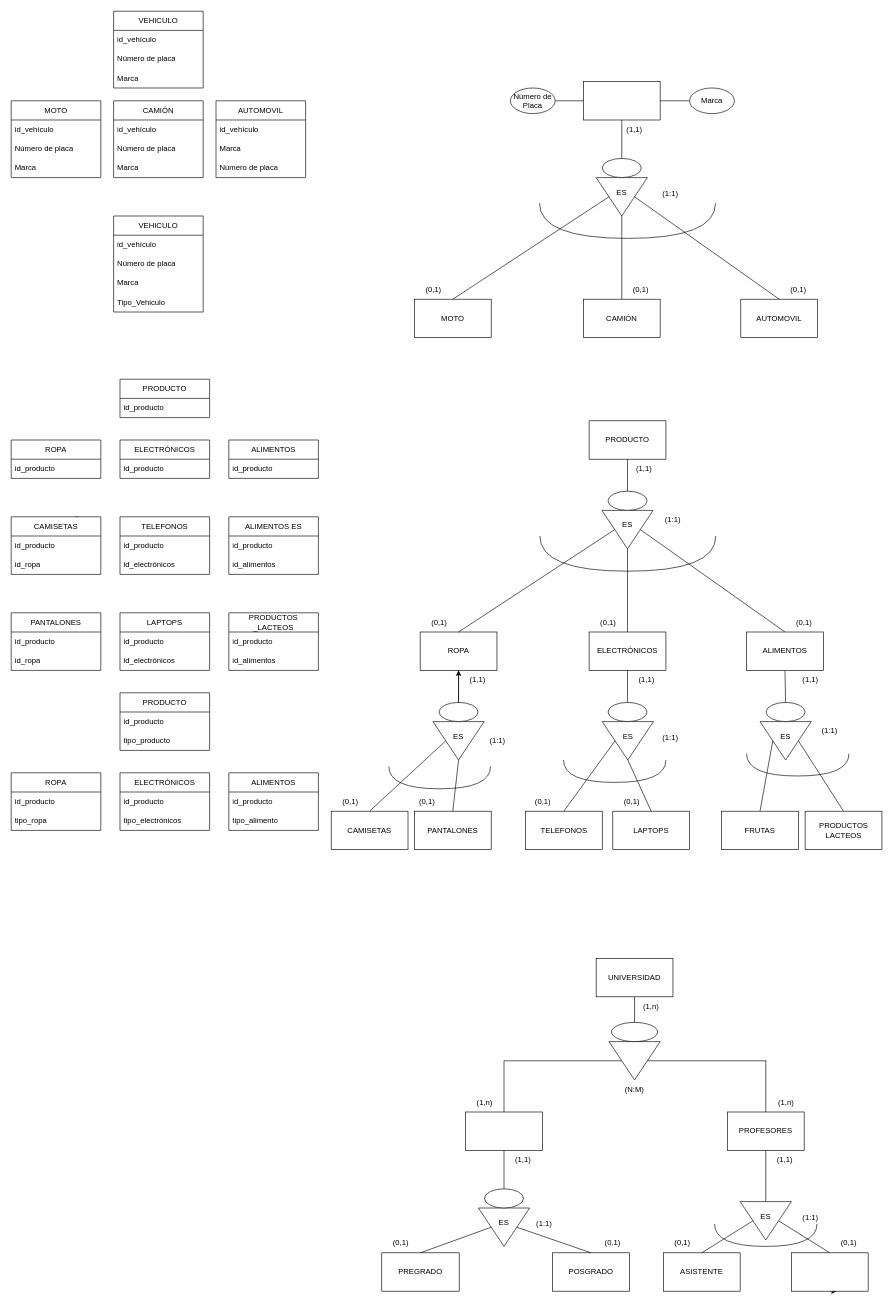
Some shapes in this 893 by 1308 pixel diagram are drawn without their labels. The shapes that lost their labels are listed below. From the top down, each one's centre as x and y in pixels, then its label:
At (621,100): "VEHÍCULO".
At (634,1060): "TIENE".
At (503,1130): "ALUMNOS".
At (829,1271): "TITULAR".
